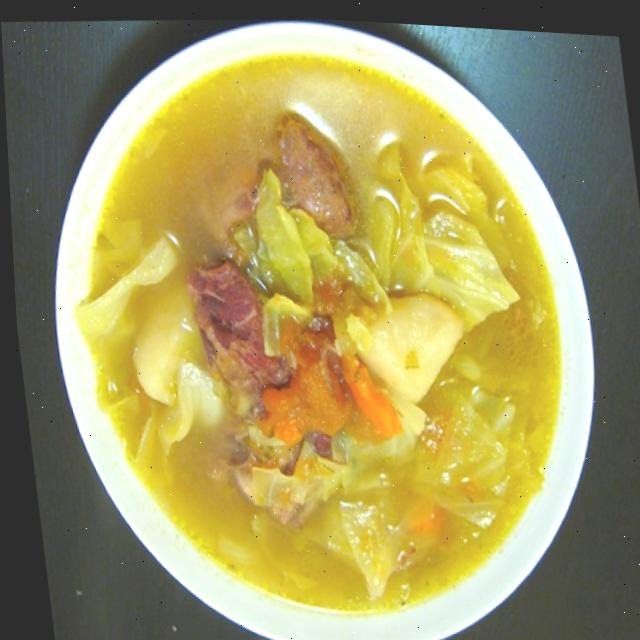汤锅炖物: (11, 1, 634, 640)
